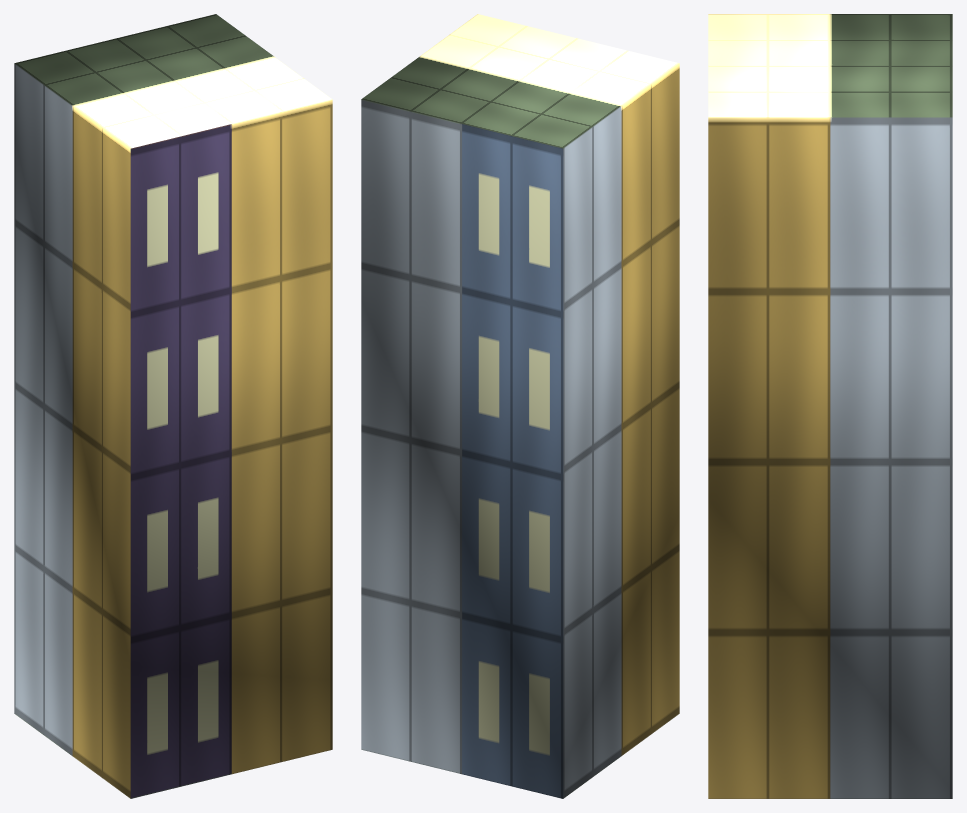
File: building_c.glb
3 views of the same model, side by side, from view 1: azimuth 30°, elevation 25°; view 2: azimuth 150°, elevation 25°; view 3: azimuth 270°, elevation 25° (orthographic). The views are drawn at different scales.
Parts seen in each view (by area): view 1: col; view 2: col; view 3: col.
Boxes of the visible parts, bbox=[...] form: col: bbox=[14, 14, 332, 798]; col: bbox=[361, 14, 679, 798]; col: bbox=[708, 14, 952, 798].
Size of what is drawn, in the model's own units: 4.19 by 12.9 by 4.19.
1 material, 1 textured.
